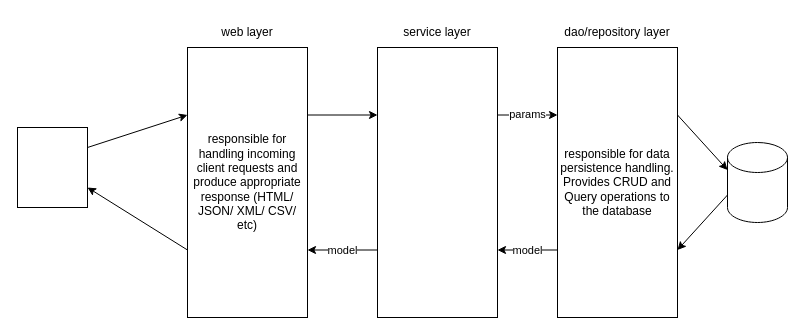
Some shapes in this 805 by 335 pixel diagram are drawn without their labels. Each missing label, with the centre of its shape:
"client (user/app)" belongs at (x=52, y=167).
"responsible for the business logic of the application" belongs at (x=437, y=182).
